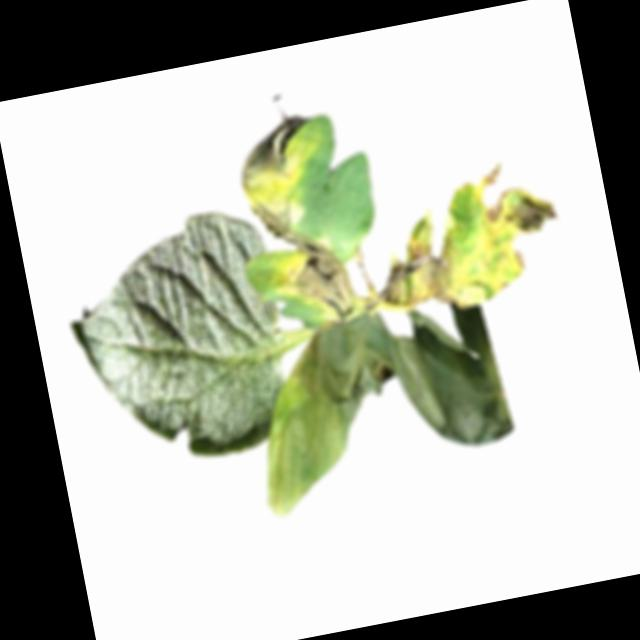Late_blight: (235, 291, 522, 520), (358, 152, 576, 324), (230, 110, 340, 247), (271, 233, 357, 328)
healthy: (52, 202, 301, 480)
